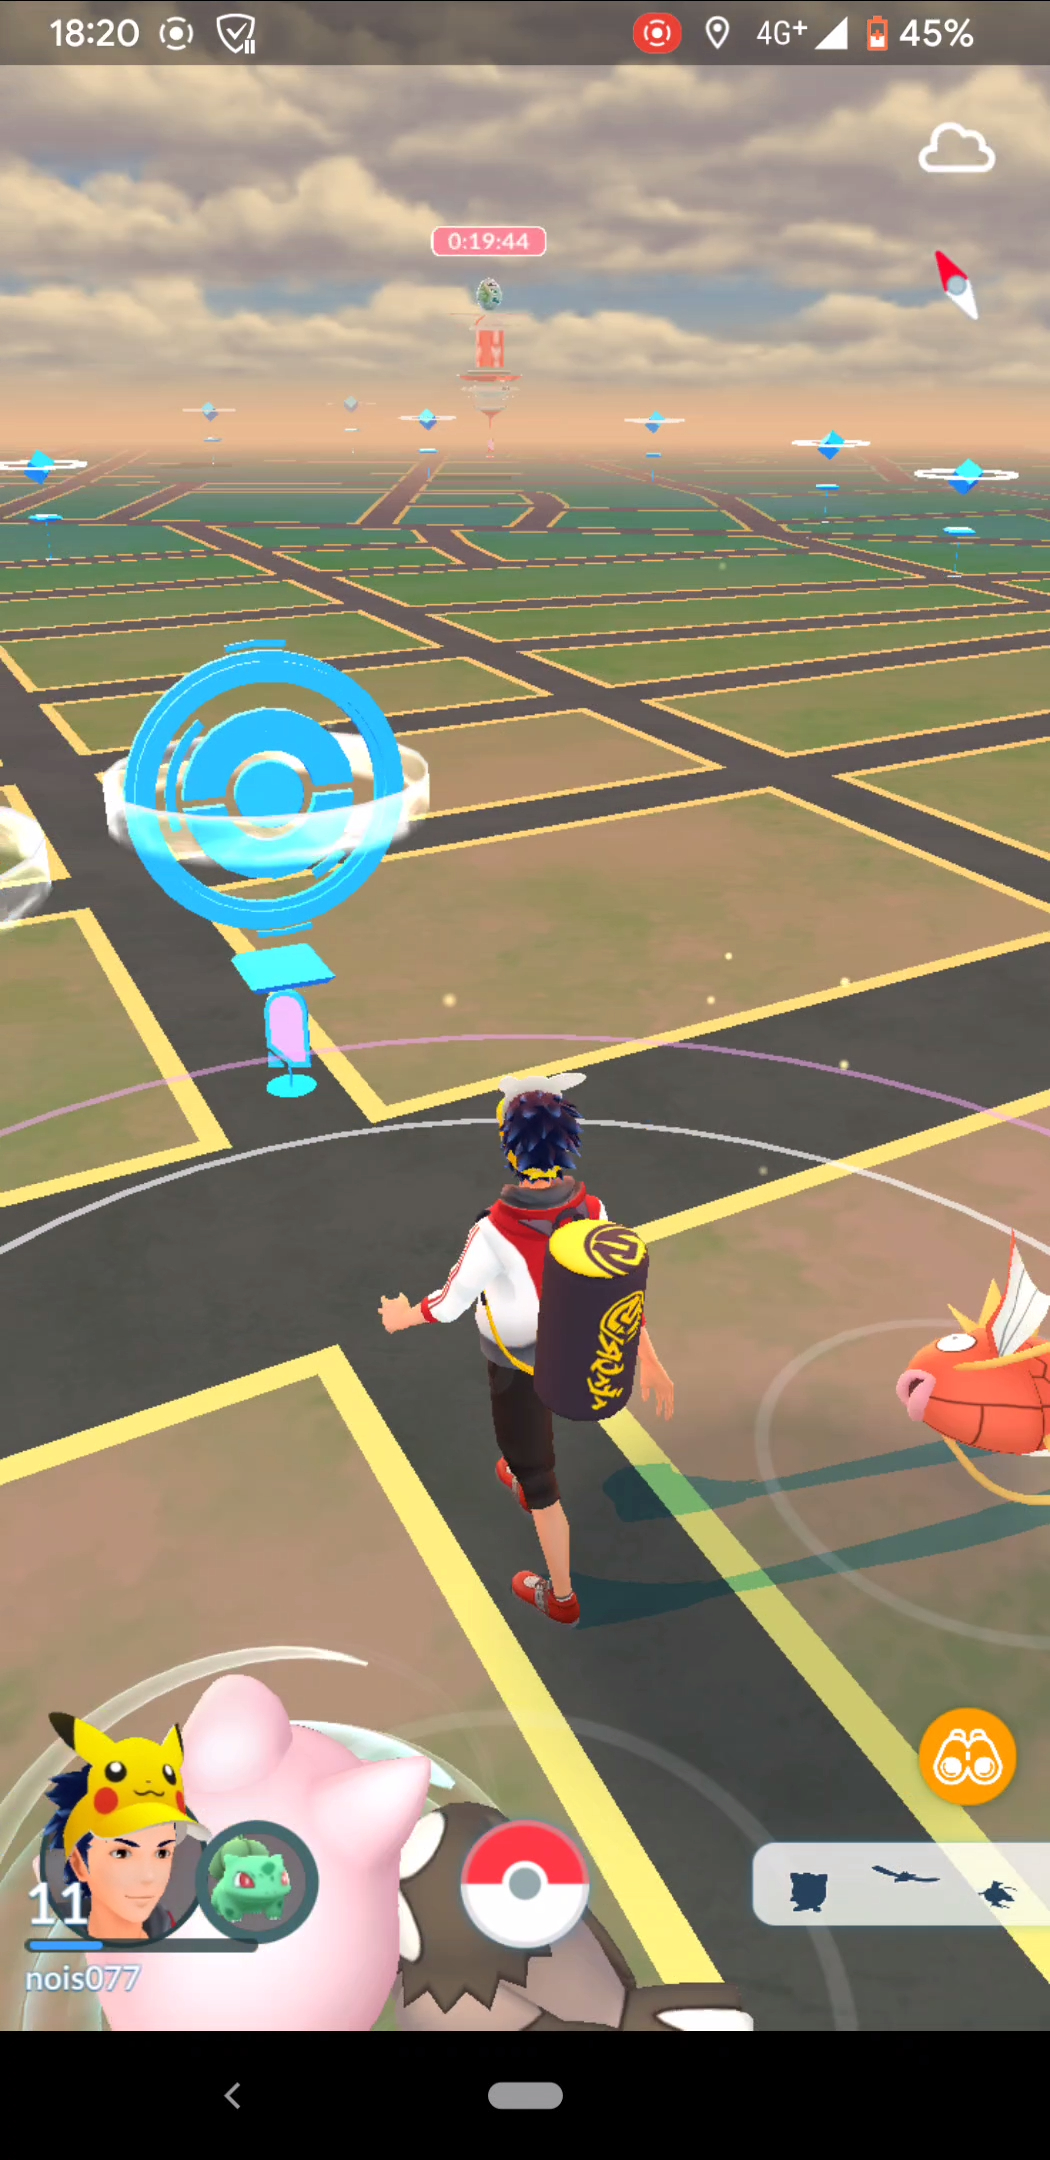pokestop: (120, 630, 413, 944)
